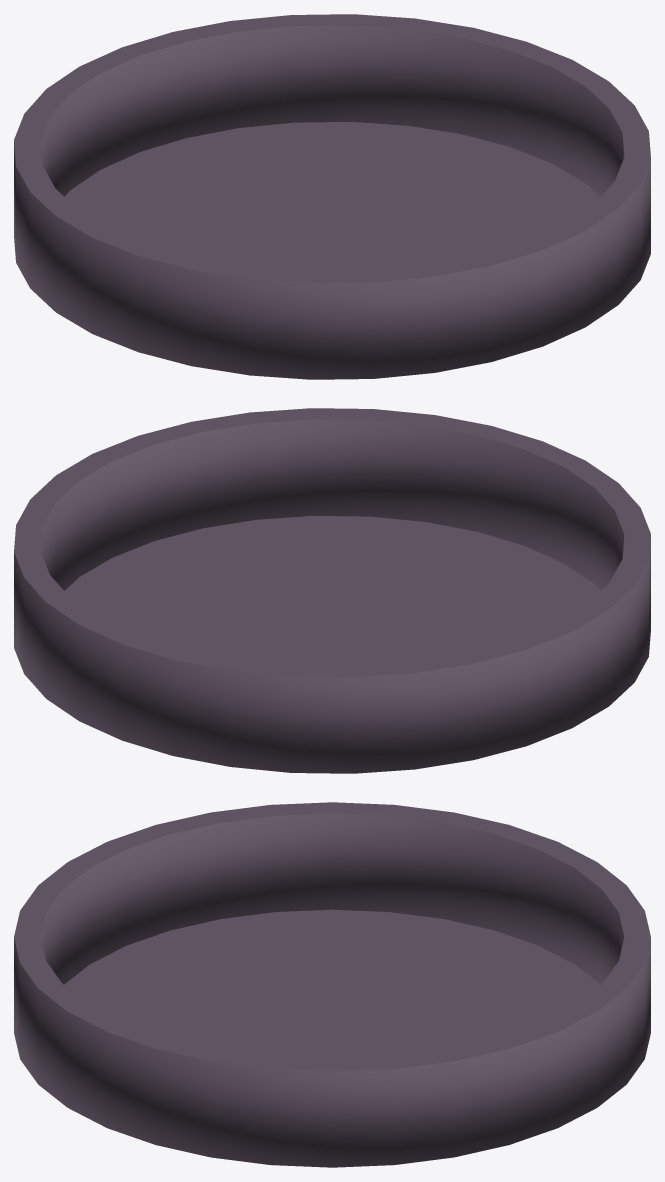
The model's file is StartPlatformBorder.fbx.
The picture shows the model from 3 angles, top to bottom: view 1: azimuth 30°, elevation 25°; view 2: azimuth 150°, elevation 25°; view 3: azimuth 270°, elevation 25°; orthographic projection.
Parts seen in each view (by area): view 1: StartBorder; view 2: StartBorder; view 3: StartBorder.
Part boxes in pixels (bbox=[...]): StartBorder: bbox=[14, 14, 650, 379]; StartBorder: bbox=[14, 408, 650, 773]; StartBorder: bbox=[14, 802, 650, 1167].
Size of the model in its own units: 600 by 100 by 600.
